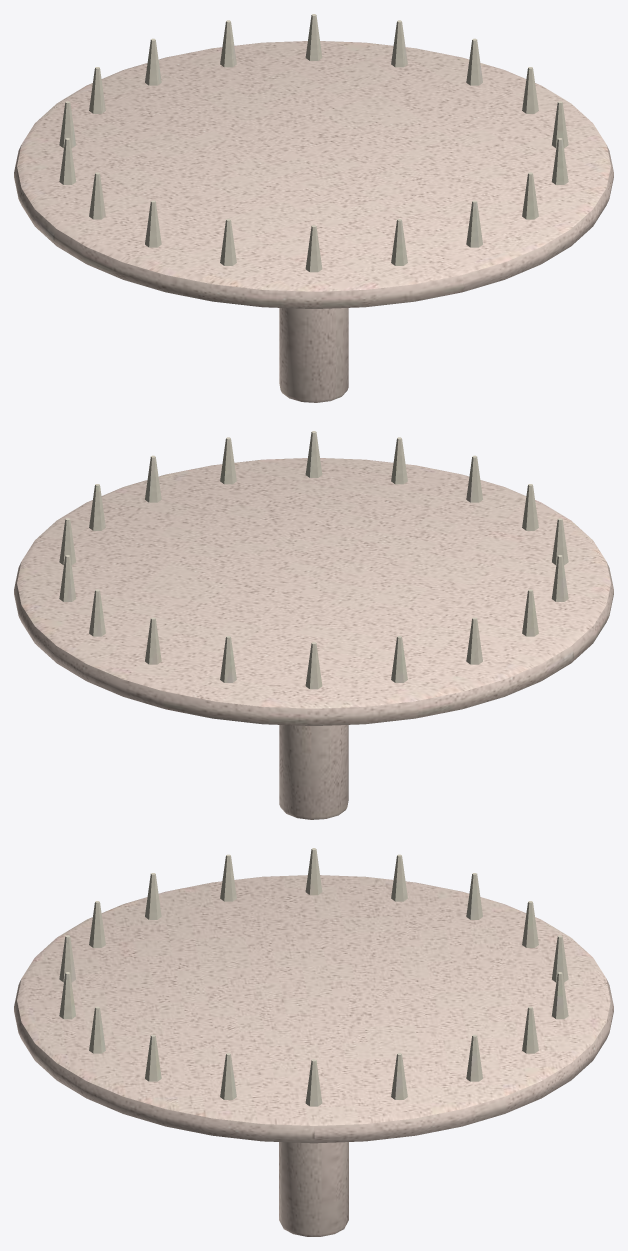
The model's file is table.glb.
3 renders of one model, top to bottom at view 1: azimuth 30°, elevation 25°; view 2: azimuth 150°, elevation 25°; view 3: azimuth 270°, elevation 25°, orthographic.
Parts seen in each view (by area): view 1: plate, stem, branch10, branch14, branch2, branch4, branch9, branch12, branch15, branch1, branch5, branch11 (+6 smaller); view 2: plate, stem, branch4, branch8, branch3, branch6, branch9, branch14, branch16, branch13, branch17, branch5 (+6 smaller); view 3: plate, stem, branch0, branch4, branch9, branch14, branch8, branch10, branch2, branch3, branch15, branch16 (+6 smaller).
Boxes of the visible parts, left/top/right/bottom form: plate: left=14, top=41, right=613, bottom=308; stem: left=279, top=308, right=348, bottom=402; branch10: left=145, top=200, right=161, bottom=247; branch14: left=466, top=200, right=482, bottom=247; branch2: left=391, top=20, right=407, bottom=67; branch4: left=220, top=20, right=236, bottom=67; branch9: left=89, top=172, right=105, bottom=219; branch12: left=305, top=225, right=322, bottom=272; branch15: left=522, top=172, right=538, bottom=219; branch1: left=466, top=38, right=482, bottom=85; branch5: left=145, top=38, right=161, bottom=85; branch11: left=220, top=219, right=236, bottom=265; plate: left=14, top=458, right=613, bottom=725; stem: left=279, top=725, right=348, bottom=819; branch4: left=145, top=617, right=161, bottom=664; branch8: left=466, top=617, right=482, bottom=664; branch3: left=89, top=589, right=105, bottom=636; branch6: left=305, top=642, right=322, bottom=689; branch9: left=522, top=589, right=538, bottom=636; branch14: left=391, top=437, right=407, bottom=484; branch16: left=220, top=437, right=236, bottom=484; branch13: left=466, top=455, right=482, bottom=502; branch17: left=145, top=455, right=161, bottom=502; branch5: left=220, top=636, right=236, bottom=682; plate: left=14, top=875, right=613, bottom=1143; stem: left=279, top=1142, right=348, bottom=1236; branch0: left=305, top=1059, right=322, bottom=1106; branch4: left=552, top=972, right=568, bottom=1019; branch9: left=305, top=848, right=322, bottom=895; branch14: left=59, top=972, right=75, bottom=1019; branch8: left=391, top=854, right=407, bottom=901; branch10: left=220, top=854, right=236, bottom=901; branch2: left=466, top=1034, right=482, bottom=1081; branch3: left=522, top=1006, right=538, bottom=1053; branch15: left=89, top=1006, right=105, bottom=1053; branch16: left=145, top=1034, right=161, bottom=1081.
Bounding box in the file's own units: 1.2 × 0.595 × 1.2.
1 material, 1 textured.
